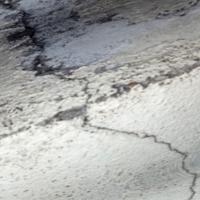crack: (82, 121, 199, 199)
